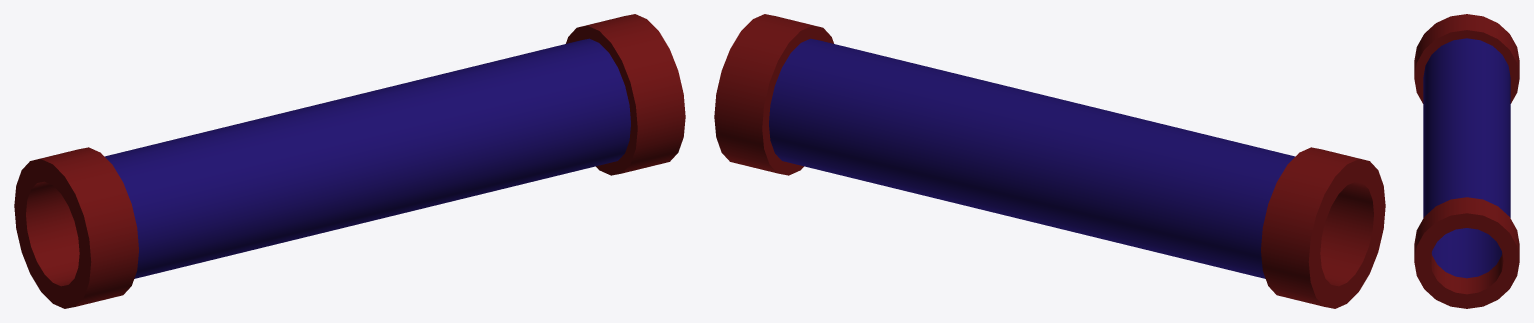
The model's file is Tuyau.fbx.
3 views of the same model, side by side, from view 1: azimuth 30°, elevation 25°; view 2: azimuth 150°, elevation 25°; view 3: azimuth 270°, elevation 25° (orthographic). The views are drawn at different scales.
Visible parts, largest first — view 1: pCylinder1; view 2: pCylinder1; view 3: pCylinder1.
Part boxes in pixels (x1,y1,x2,y2): pCylinder1: [14, 14, 685, 308]; pCylinder1: [714, 14, 1385, 308]; pCylinder1: [1414, 14, 1519, 308].
Bounding box in the file's own units: 283 × 63.34 × 63.34.
